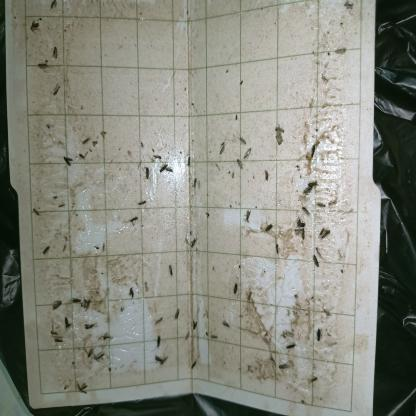prays_oleae: (96, 324, 116, 344), (26, 16, 42, 39), (72, 379, 88, 400), (46, 295, 65, 312), (93, 348, 110, 366), (334, 42, 348, 63), (34, 58, 50, 76), (68, 290, 82, 310), (308, 140, 320, 163), (261, 168, 276, 186), (77, 149, 91, 168), (310, 250, 322, 272), (83, 342, 95, 364), (30, 196, 40, 222), (82, 316, 98, 332), (48, 42, 62, 60), (80, 293, 94, 311), (312, 322, 324, 343), (141, 164, 153, 184), (125, 284, 137, 304), (38, 246, 56, 259), (274, 243, 284, 265), (62, 316, 73, 336), (61, 152, 73, 170), (216, 138, 228, 156), (284, 333, 296, 351), (242, 207, 252, 228), (237, 131, 248, 149), (329, 192, 340, 210), (137, 192, 148, 210), (190, 351, 199, 373), (318, 224, 332, 238), (170, 308, 184, 322), (48, 84, 64, 96), (262, 221, 274, 237), (243, 147, 253, 165), (165, 261, 175, 279), (125, 215, 140, 227), (222, 314, 232, 332), (234, 156, 245, 172), (275, 360, 291, 371), (231, 282, 240, 300), (298, 228, 308, 244), (152, 352, 162, 368), (188, 235, 201, 247), (53, 336, 64, 350), (80, 132, 92, 144), (302, 186, 314, 198), (300, 204, 312, 216), (307, 178, 321, 188), (46, 327, 60, 337), (61, 242, 70, 257), (152, 149, 162, 162), (186, 154, 194, 170), (190, 316, 198, 332), (160, 354, 168, 370), (191, 174, 198, 192), (158, 162, 168, 174), (49, 0, 60, 10), (293, 220, 306, 228), (154, 332, 162, 345), (166, 164, 172, 180), (318, 200, 326, 212), (206, 208, 210, 223)
